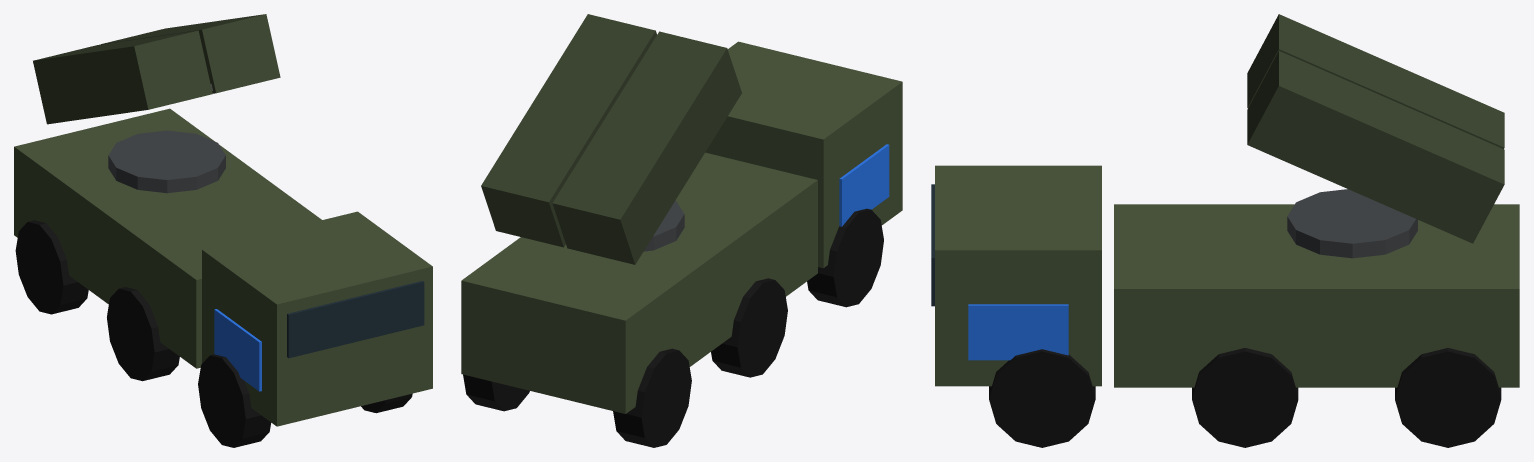
File: kp_shorad.glb
3 views of the same model, side by side, from view 1: azimuth 30°, elevation 25°; view 2: azimuth 150°, elevation 25°; view 3: azimuth 270°, elevation 25° (orthographic). The views are drawn at different scales.
Visible parts, largest first — view 1: body, cab, pod_0, windshield, turret, pod_1, wheel_l2, wheel_l1, wheel_l0, team_door_l, wheel_r0; view 2: body, pod_0, cab, pod_1, wheel_l2, wheel_l1, wheel_l0, team_door_l, wheel_r2, turret; view 3: body, cab, pod_1, pod_0, wheel_r1, wheel_r2, wheel_r0, turret, team_door_r.
Boxes of the visible parts, x1=… form: body: x1=14, y1=108, x2=321, y2=368; cab: x1=202, y1=211, x2=432, y2=426; pod_0: x1=33, y1=30, x2=212, y2=124; windshield: x1=287, y1=281, x2=424, y2=358; turret: x1=108, y1=130, x2=225, y2=193; pod_1: x1=101, y1=14, x2=280, y2=93; wheel_l2: x1=15, y1=220, x2=88, y2=314; wheel_l1: x1=107, y1=287, x2=179, y2=381; wheel_l0: x1=198, y1=354, x2=271, y2=447; team_door_l: x1=214, y1=309, x2=261, y2=391; wheel_r0: x1=361, y1=393, x2=412, y2=413; body: x1=461, y1=152, x2=817, y2=413; pod_0: x1=552, y1=31, x2=741, y2=264; cab: x1=705, y1=41, x2=902, y2=268; pod_1: x1=481, y1=14, x2=656, y2=247; wheel_l2: x1=613, y1=348, x2=691, y2=447; wheel_l1: x1=711, y1=278, x2=787, y2=377; wheel_l0: x1=807, y1=208, x2=883, y2=307; team_door_l: x1=839, y1=144, x2=889, y2=226; wheel_r2: x1=463, y1=374, x2=529, y2=411; turret: x1=644, y1=200, x2=684, y2=251; body: x1=1114, y1=204, x2=1519, y2=387; cab: x1=935, y1=165, x2=1101, y2=386; pod_1: x1=1247, y1=51, x2=1504, y2=243; pod_0: x1=1247, y1=14, x2=1504, y2=148; wheel_r1: x1=1192, y1=348, x2=1298, y2=447; wheel_r2: x1=1395, y1=348, x2=1501, y2=447; wheel_r0: x1=989, y1=349, x2=1095, y2=447; turret: x1=1287, y1=189, x2=1417, y2=258; team_door_r: x1=968, y1=304, x2=1068, y2=360.
Size of the model in its own units: 2.7 by 4.82 by 7.3.
